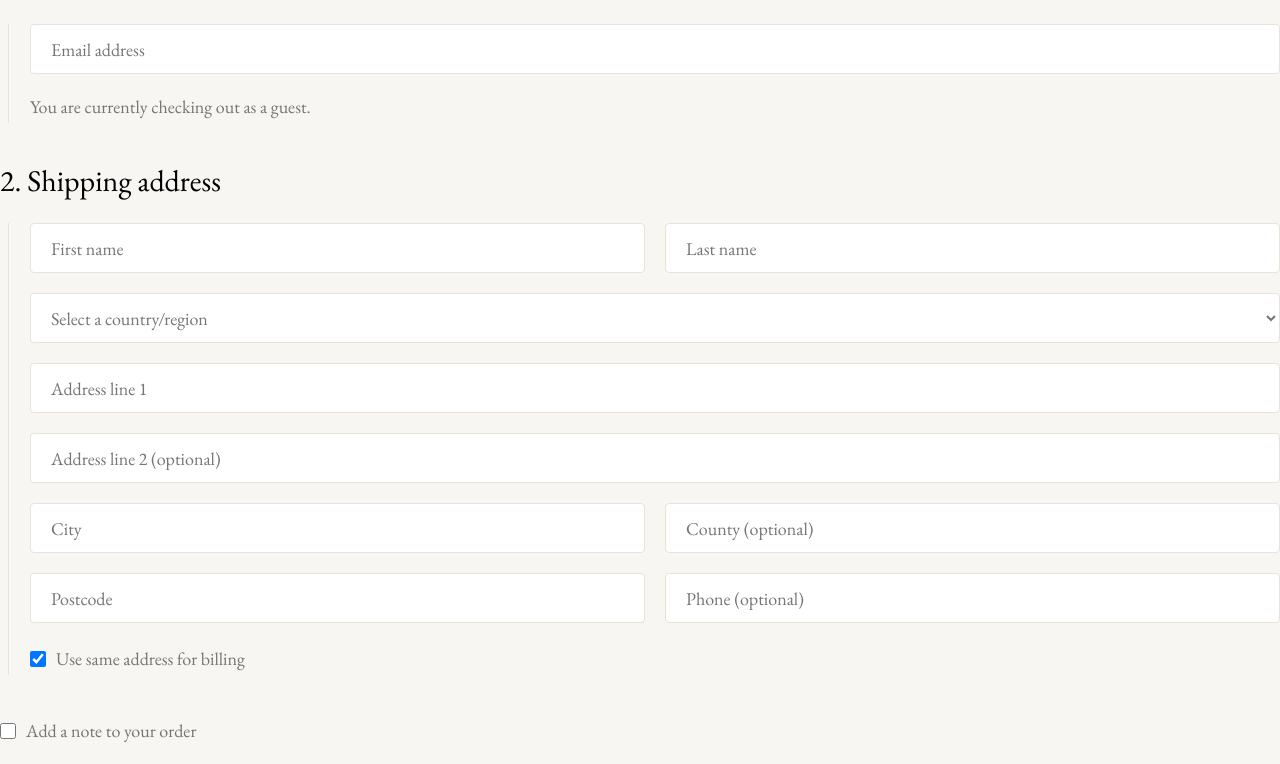
Test: Form component › renders note textarea after checkbox ticked
The image size is (1280, 764).
Click the checkbox labelled "Add a note to your order" at (8, 731), box x1=0 y1=723 x2=16 y2=739
(page scrolled)
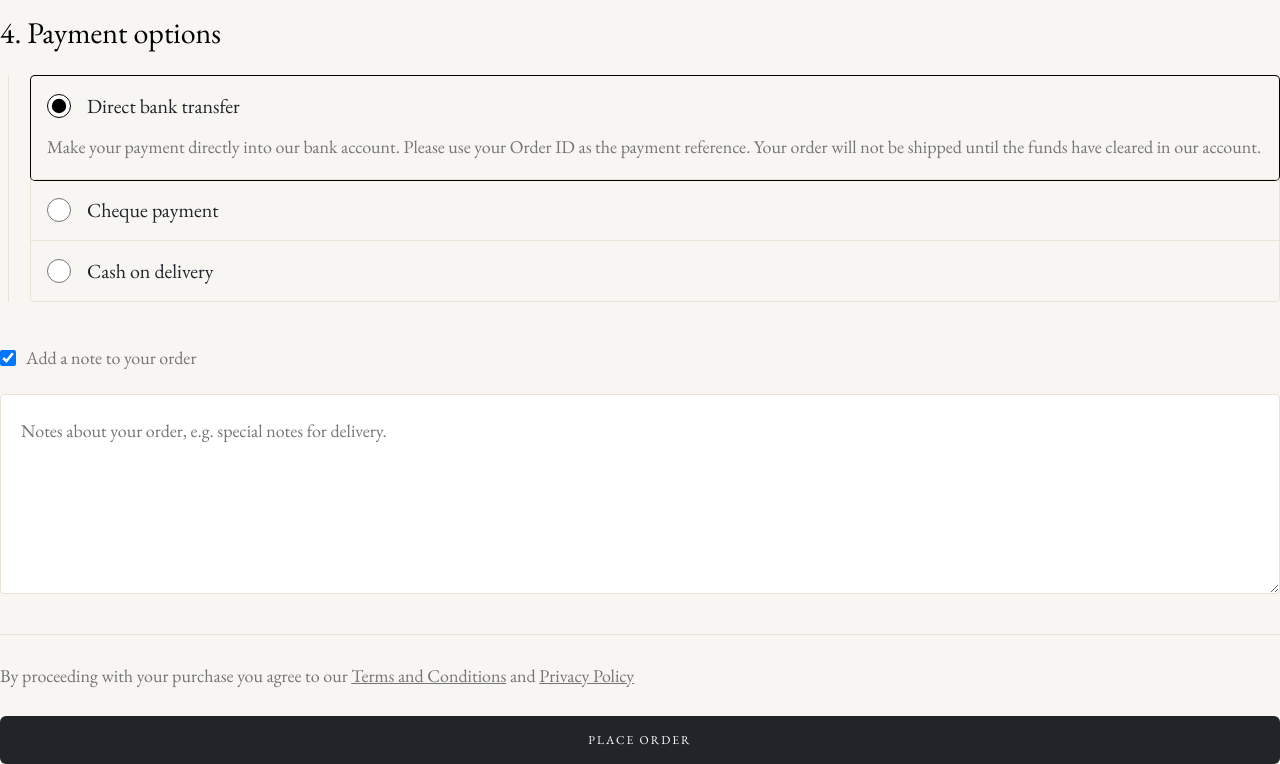
Expected: the text box labelled "Notes about your order, e.g. special notes for delivery." is shown, x1=0 y1=394 x2=1279 y2=594
